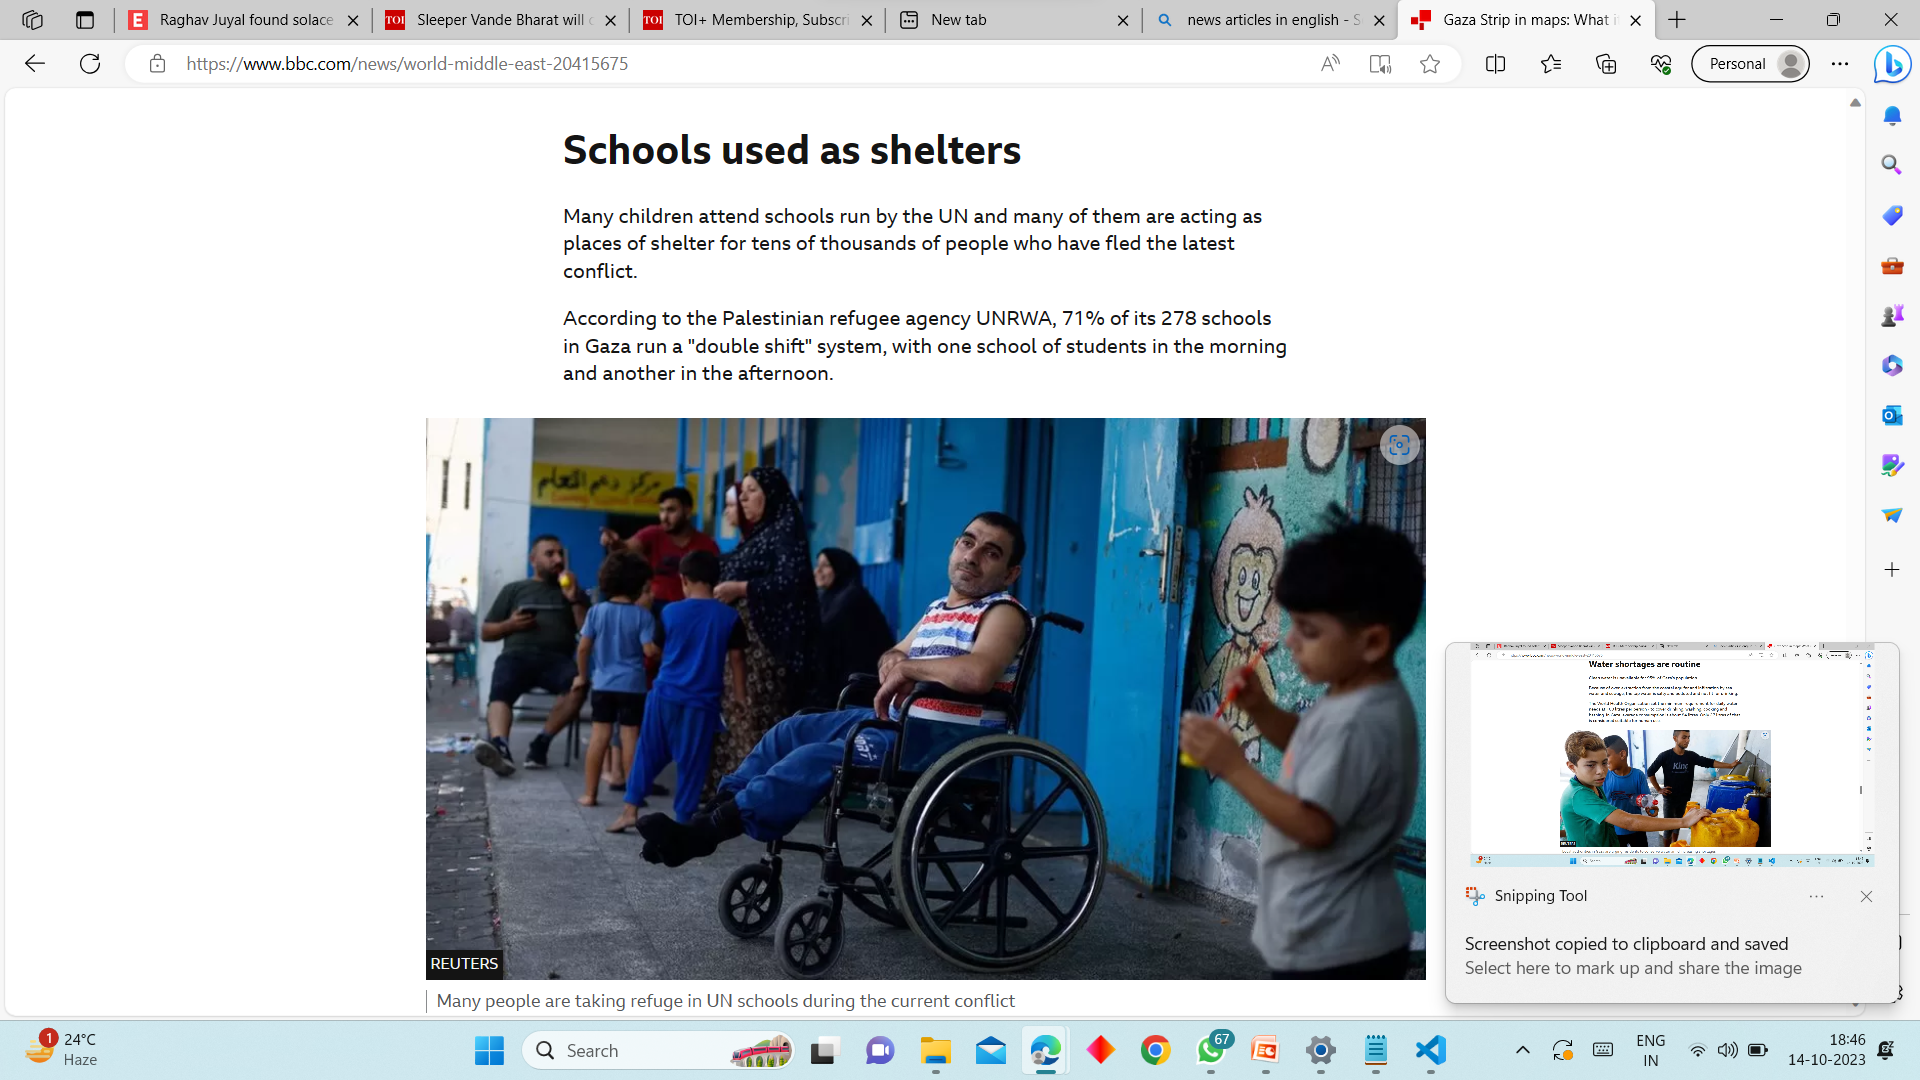Image: (436, 430, 1422, 977)
Paragraph: (562, 293, 1295, 407), (553, 199, 1279, 289), (547, 119, 1042, 186), (436, 986, 1026, 1022)
